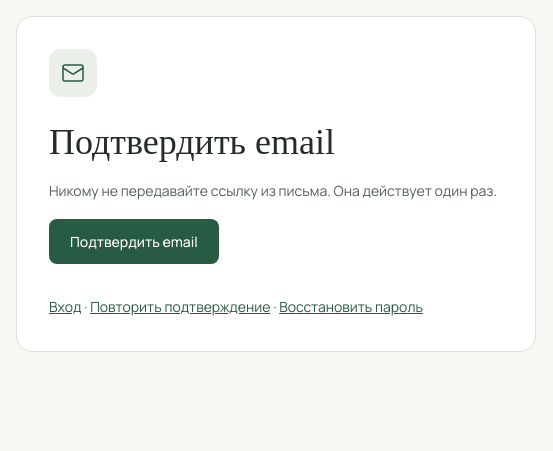
Test case: показывает истёкшую ссылку и доступ к повторной отправке
Click the button "Подтвердить email": (134, 241) [49,219,219,264]
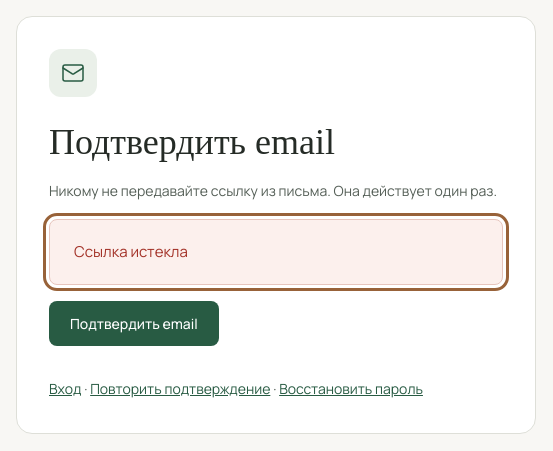
Expected: the message reads "Ссылка истекла", [74,241,188,262]
